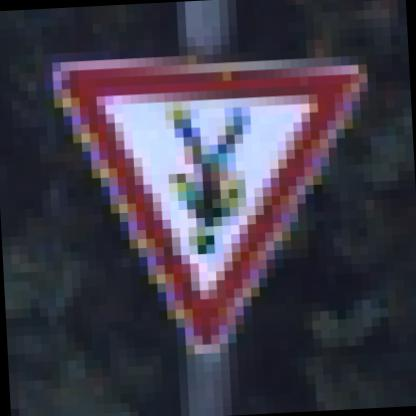crosswalk: (28, 27, 384, 365)
